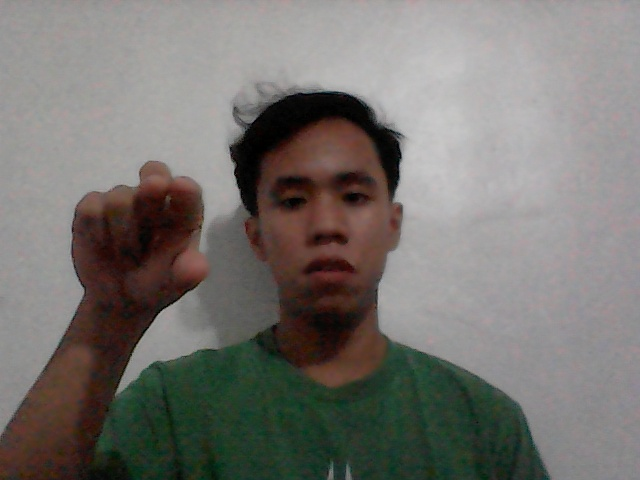No: (44, 144, 225, 325)
